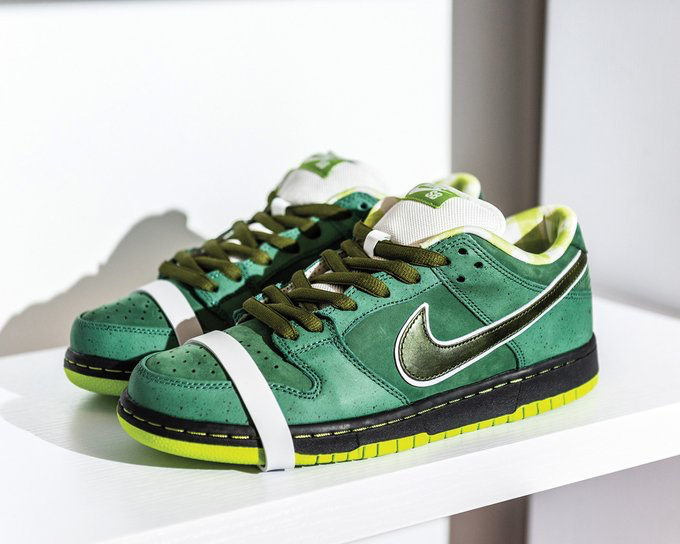Nike SB Dunk Green Lobster: (113, 171, 605, 472)
